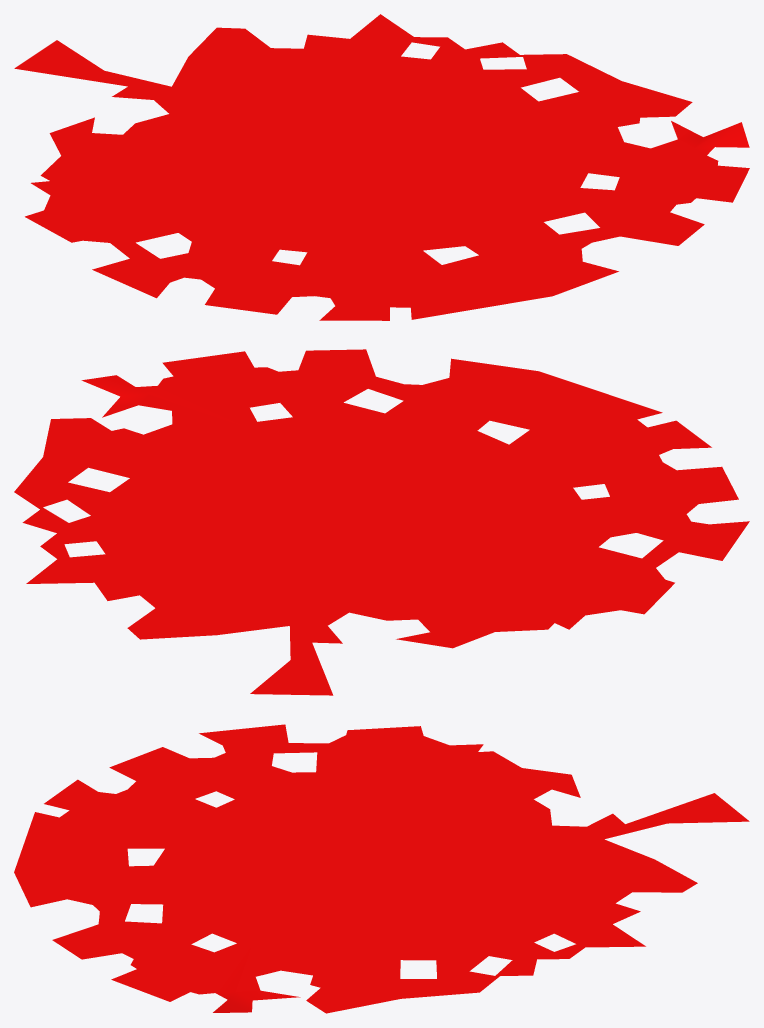
The model's file is map13_navi.FBX.
3 views of the same model, one above another, from view 1: azimuth 30°, elevation 25°; view 2: azimuth 150°, elevation 25°; view 3: azimuth 270°, elevation 25° (orthographic). The views are drawn at different scales.
Parts seen in each view (by area): view 1: navi; view 2: navi; view 3: navi.
Part boxes in pixels (x1,y1,x2,y2): navi: (14, 14, 749, 320); navi: (14, 349, 749, 695); navi: (14, 724, 749, 1013).
Bounding box in the file's own units: 16.36 × 0.1763 × 17.31.
